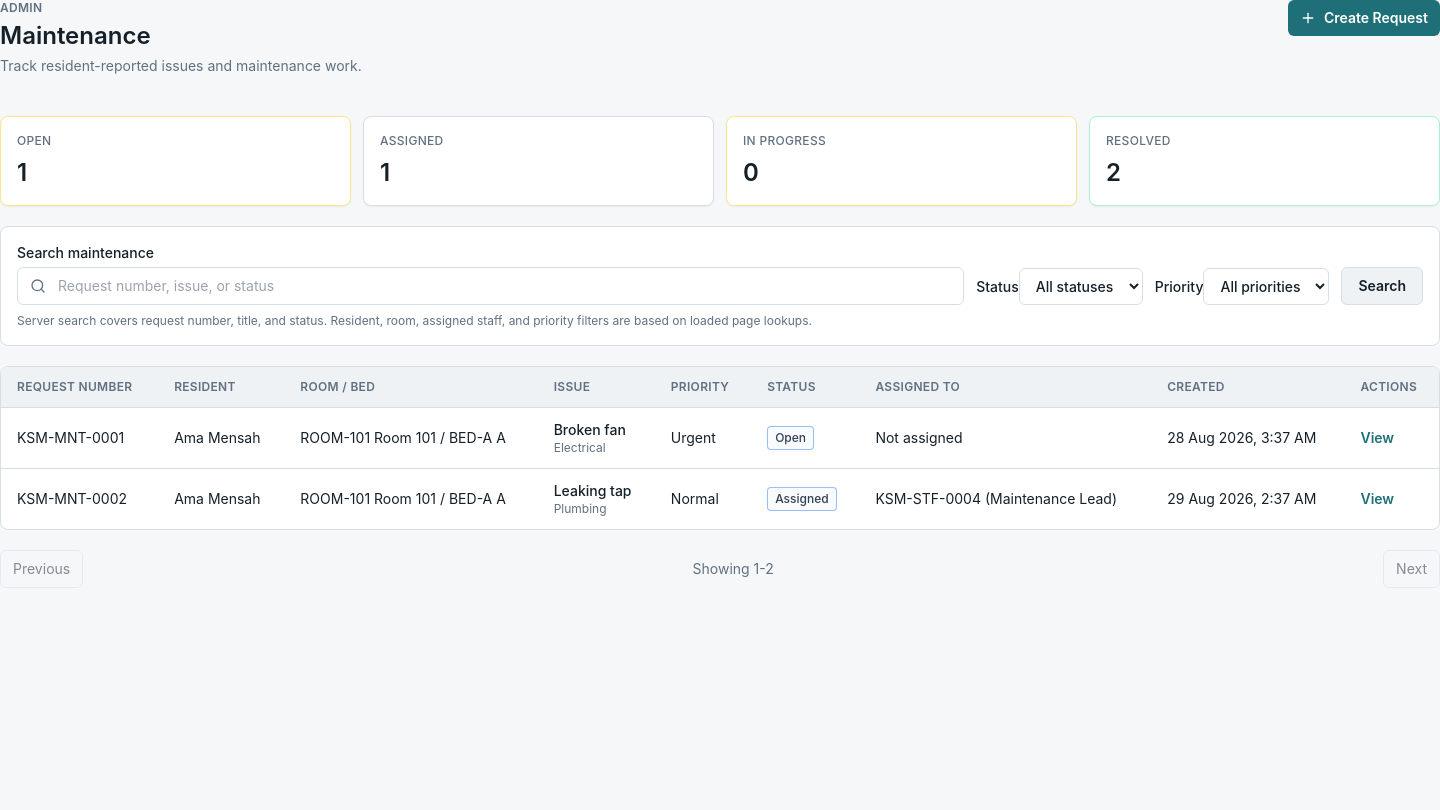
MaintenancePage › surfaces assignment failures
The width and height of the screenshot is (1440, 810).
Expected: the text "KSM-MNT-0001" is shown, [1,408,158,468]
Click the button "View" in the row of "KSM-MNT-0001". click: (1377, 438)
box: [1360,428,1394,448]
(page scrolled)
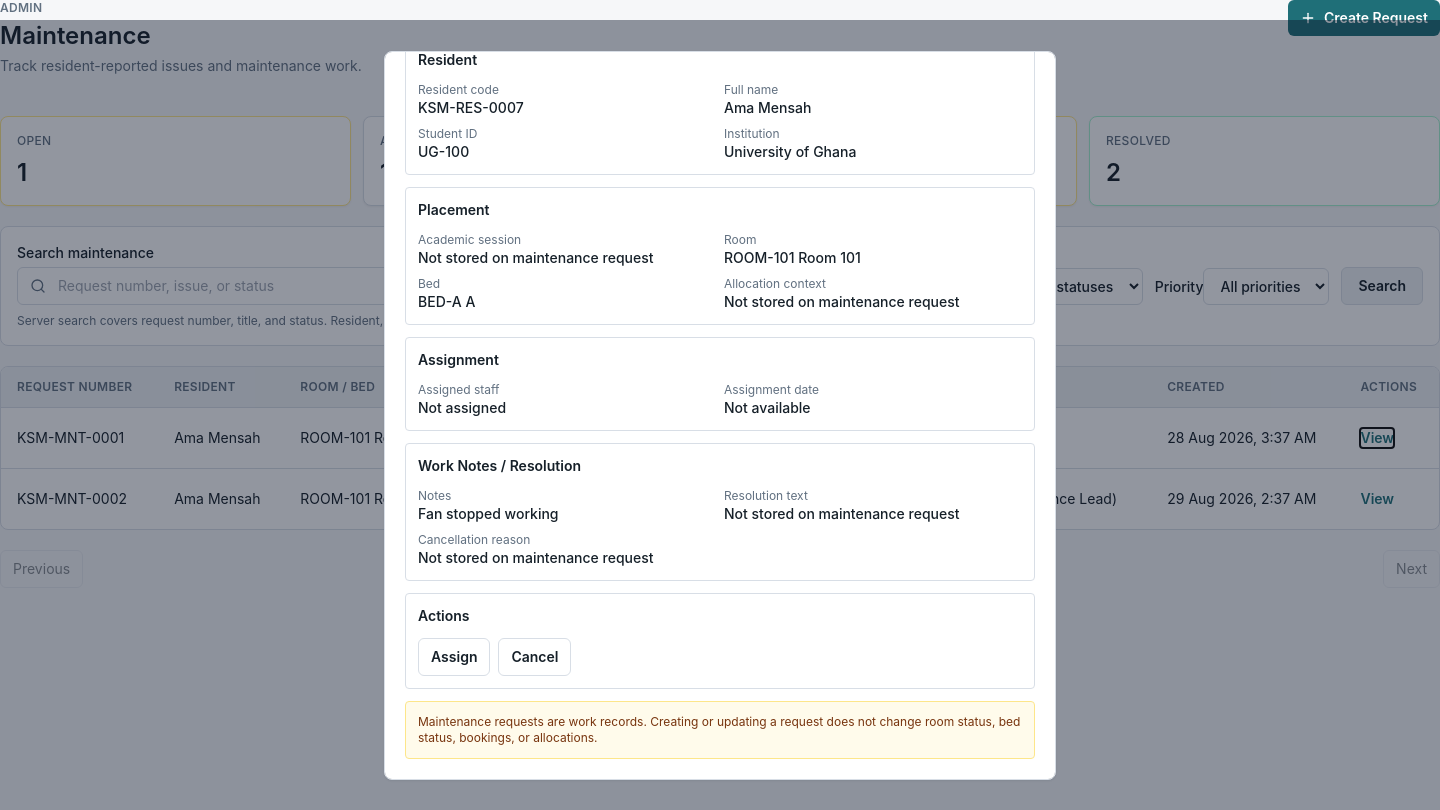
Click the button "Assign". click: (454, 656)
box: [418,638,490,676]
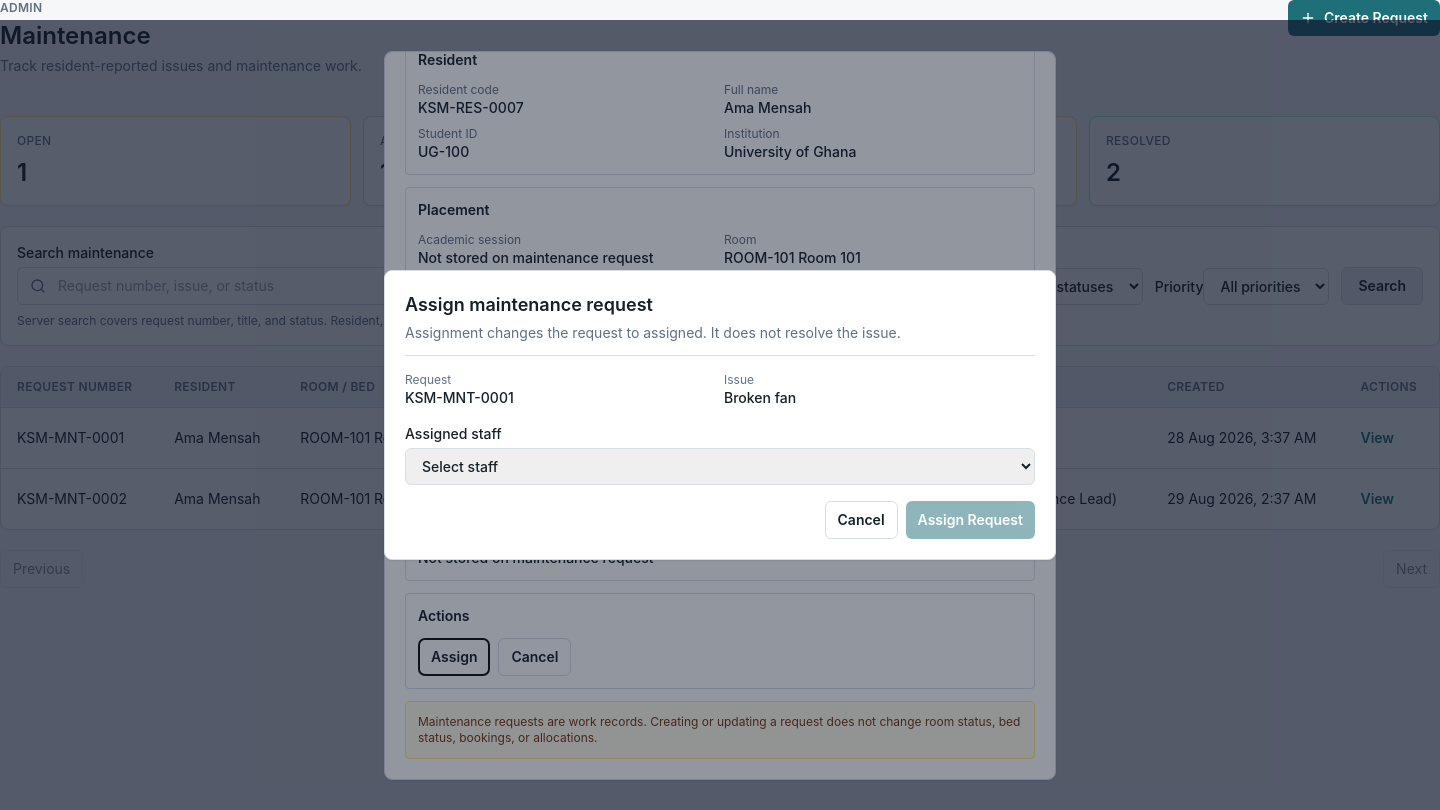
Select "KSM-STF-0004 (Maintenance Lead)" in the dropdown named "Assigned maintenance staff". click: (720, 466)
box: [405,448,1035,485]
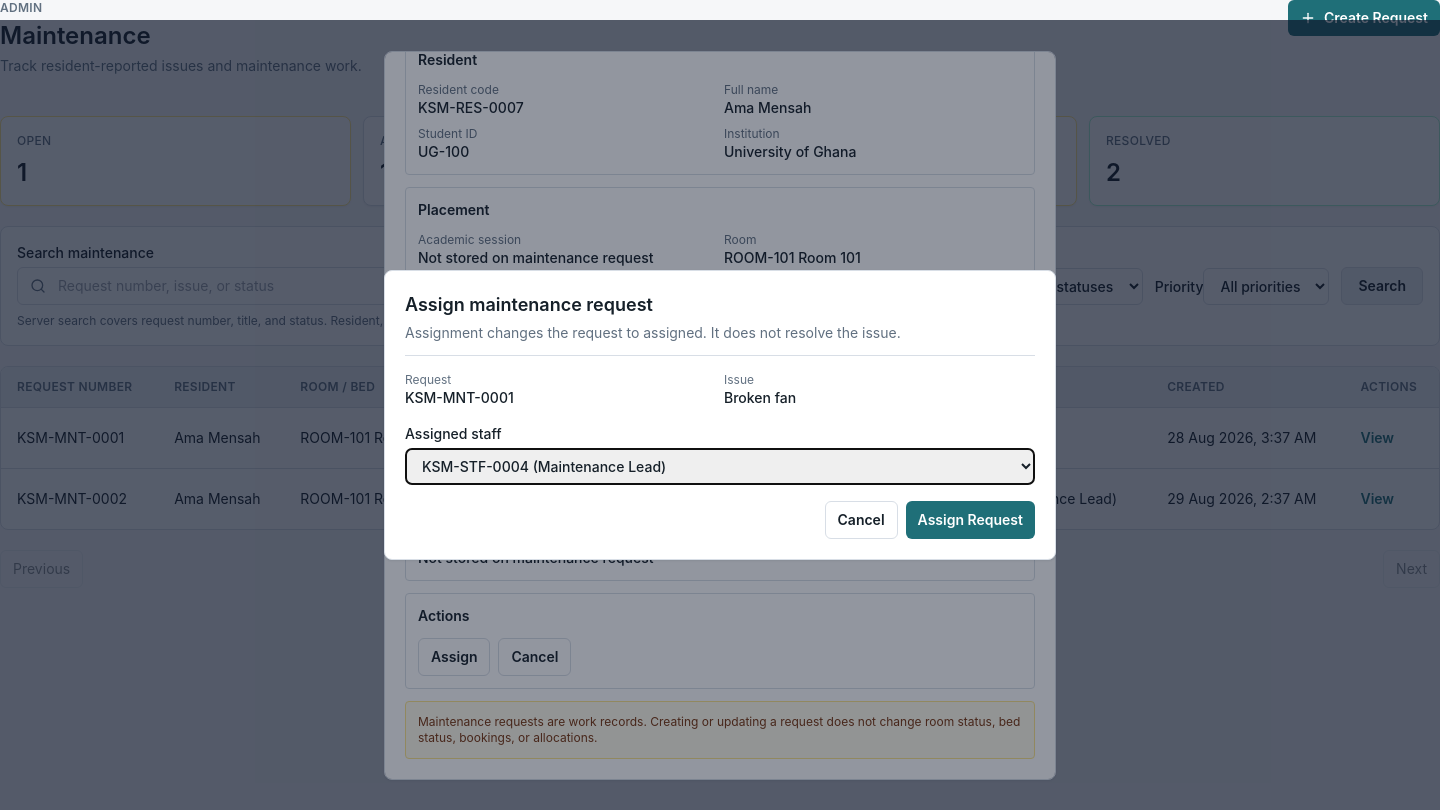
Click the button "Assign Request". click: (970, 520)
box: [906,501,1035,539]
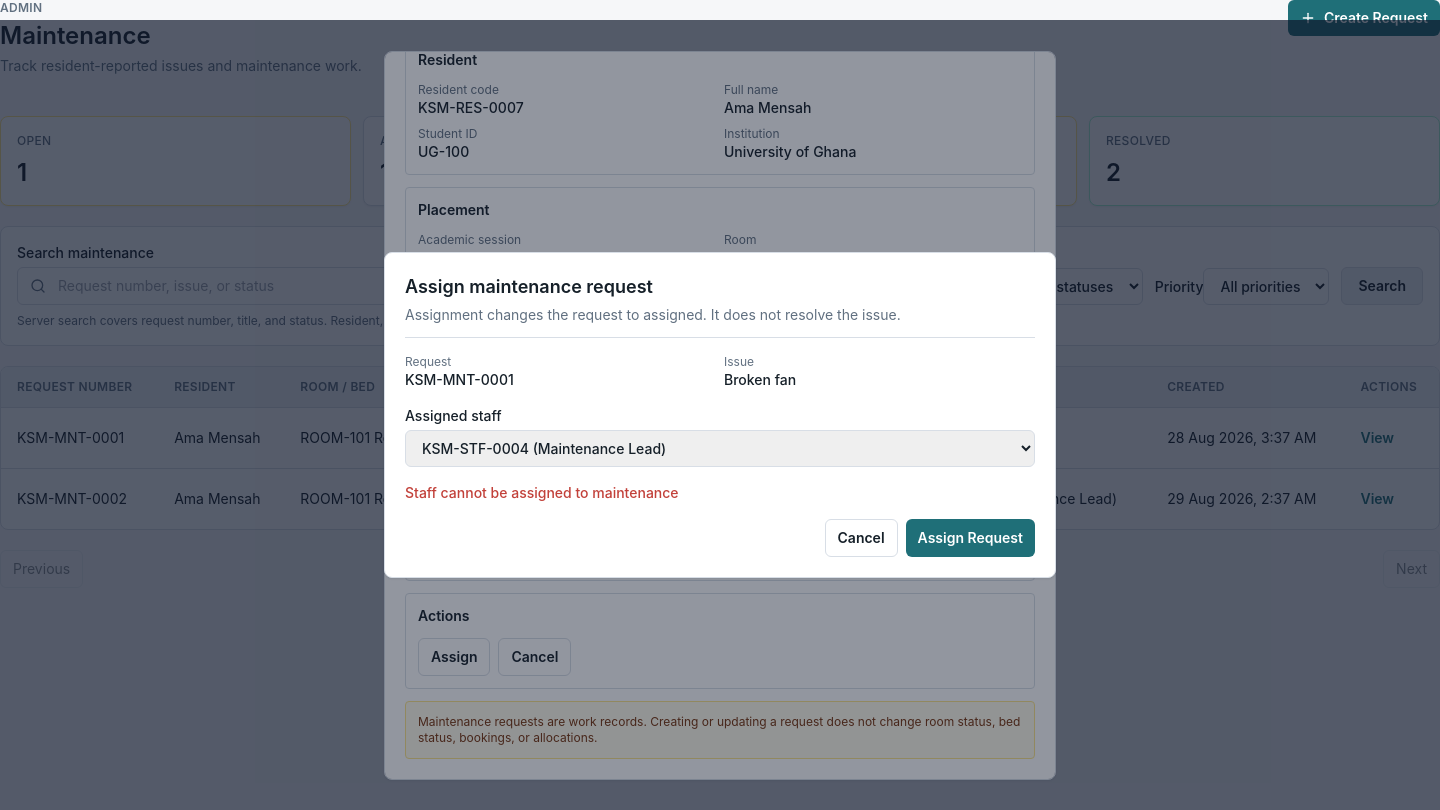
Expected: the message reads "Staff cannot be assigned to maintenance", [405,484,679,501]
